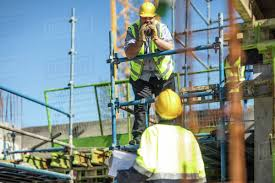helmet: (154, 89, 182, 119), (138, 2, 157, 18)
vest: (129, 28, 179, 83)
